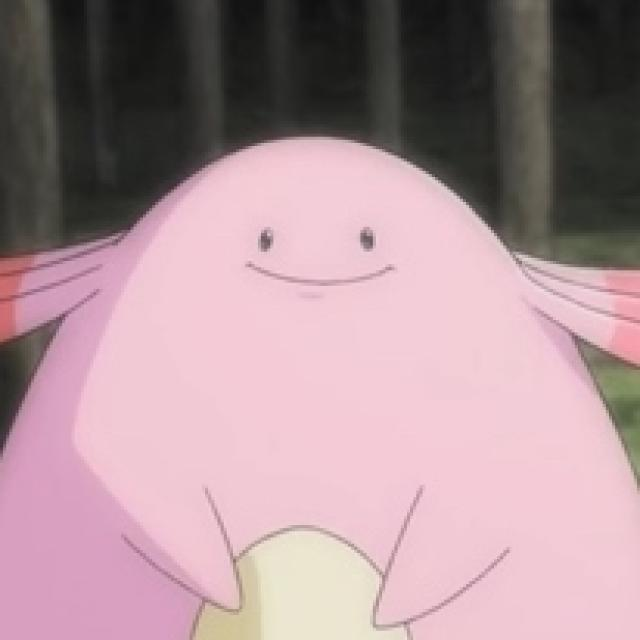Chansey: (0, 135, 638, 640)
